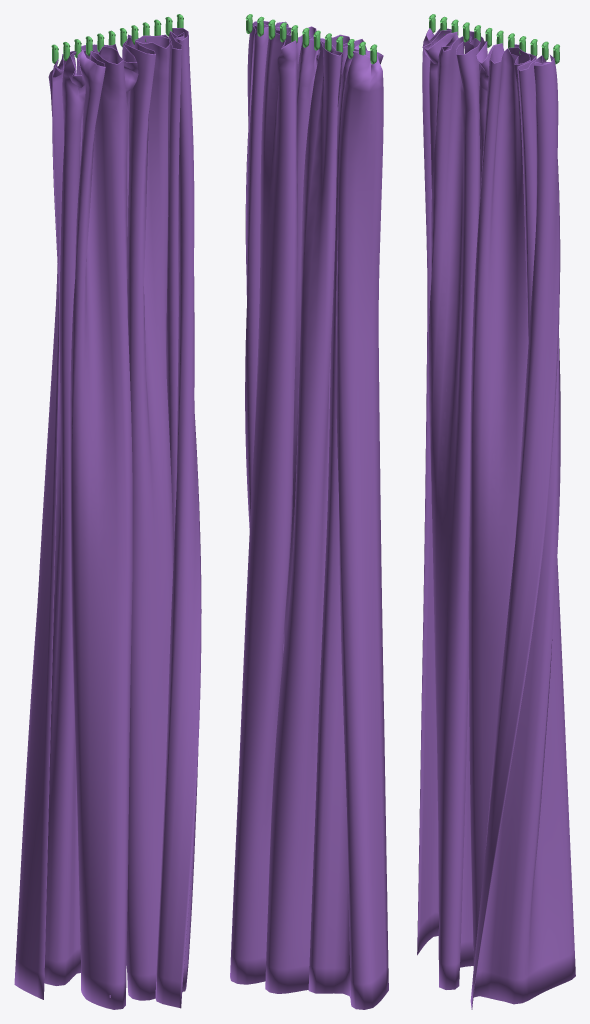
Rendered from Curtain_1.fbx.
3 views of the same model, side by side, from view 1: azimuth 30°, elevation 25°; view 2: azimuth 150°, elevation 25°; view 3: azimuth 330°, elevation 25° (orthographic).
Parts seen in each view (by area): view 1: Curtain_1; view 2: Curtain_1; view 3: Curtain_1.
Boxes of the visible parts, left/top/right/bottom form: Curtain_1: left=14, top=14, right=201, bottom=1009; Curtain_1: left=230, top=14, right=388, bottom=1009; Curtain_1: left=417, top=14, right=575, bottom=1009.
Bounding box in the file's own units: 40.47 × 241 × 31.68.
